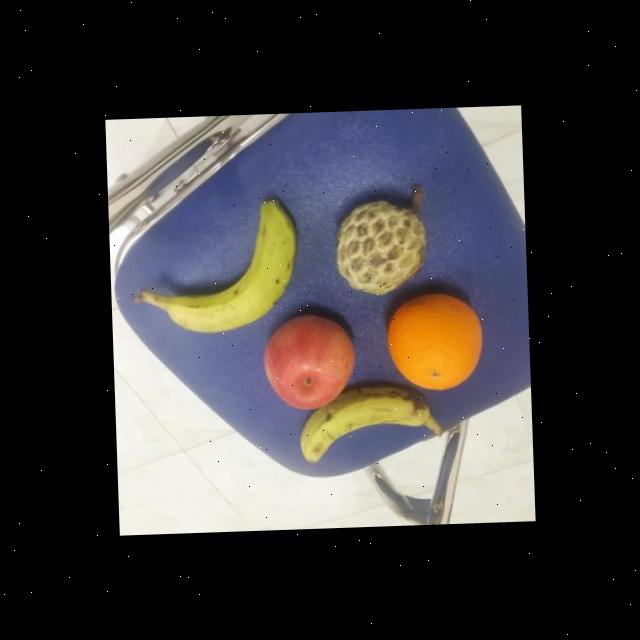Sakya fruit: (329, 196, 431, 299)
apple: (260, 313, 358, 411)
banana: (152, 197, 304, 336), (296, 384, 434, 468)
orange: (385, 291, 486, 394)
